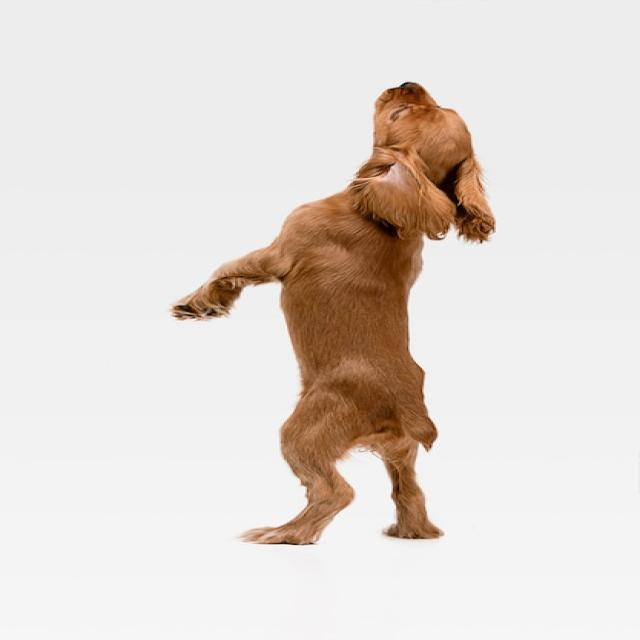Dog: (171, 82, 497, 546)
